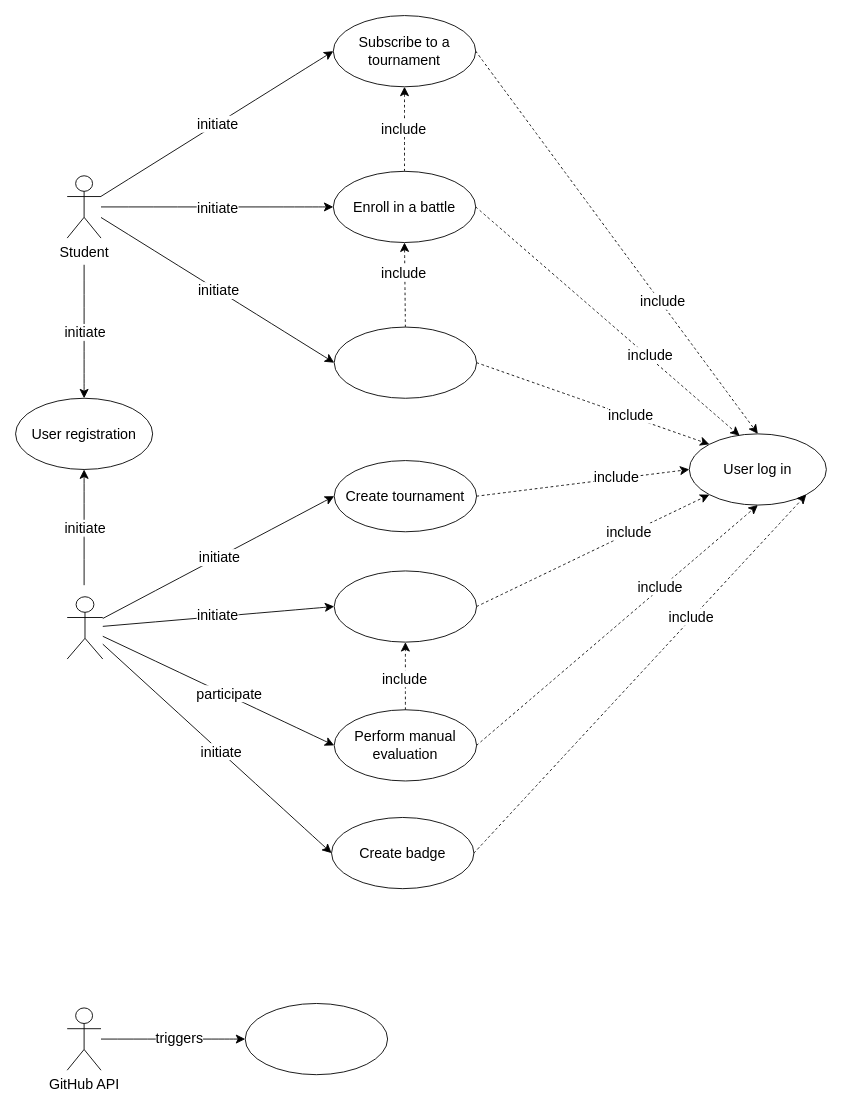
Some shapes in this 842 by 1109 pixel diagram are drawn without their labels. Here are the shapes that lost their labels. From the top down, the box of each, then its label:
(333, 326, 477, 398): Form a team
(333, 570, 477, 642): Create battle
(66, 596, 103, 659): Educator
(244, 1003, 388, 1075): Automatic evaluation
